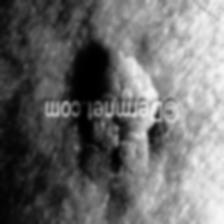Toxin: (84, 50, 159, 198)
